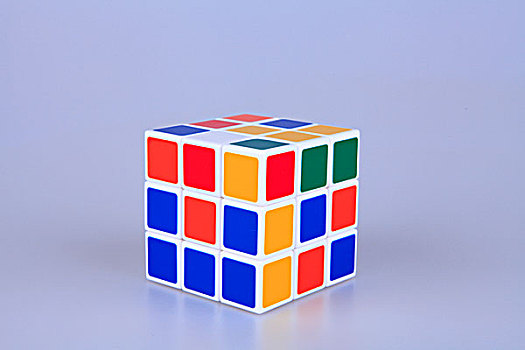cube: (143, 114, 362, 316)
